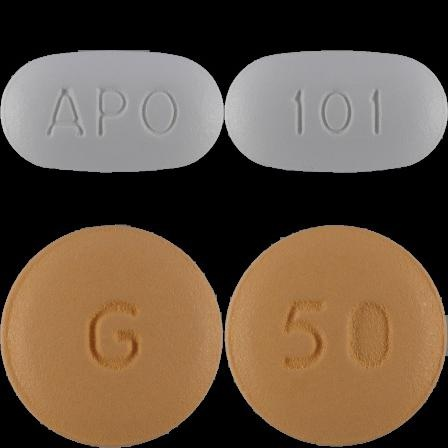10544-809: (0, 0, 224, 224)
